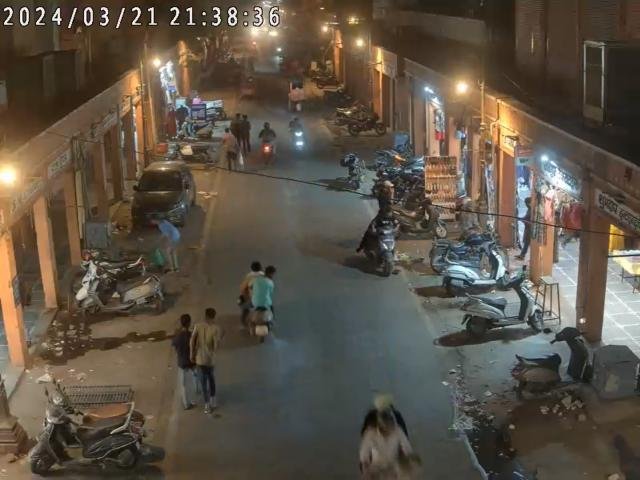car: (130, 162, 197, 224)
motorbike: (428, 230, 500, 271)
no_helmet: (263, 265, 276, 278), (250, 261, 262, 272), (384, 207, 394, 219)
person: (188, 306, 222, 420), (172, 316, 198, 412), (148, 214, 184, 273), (221, 128, 243, 172)
scooty: (25, 376, 144, 470), (518, 319, 596, 403), (462, 274, 549, 338), (76, 266, 166, 315), (446, 252, 511, 294), (390, 195, 448, 242)
scooty-rider: (237, 260, 280, 346), (362, 198, 398, 280)
